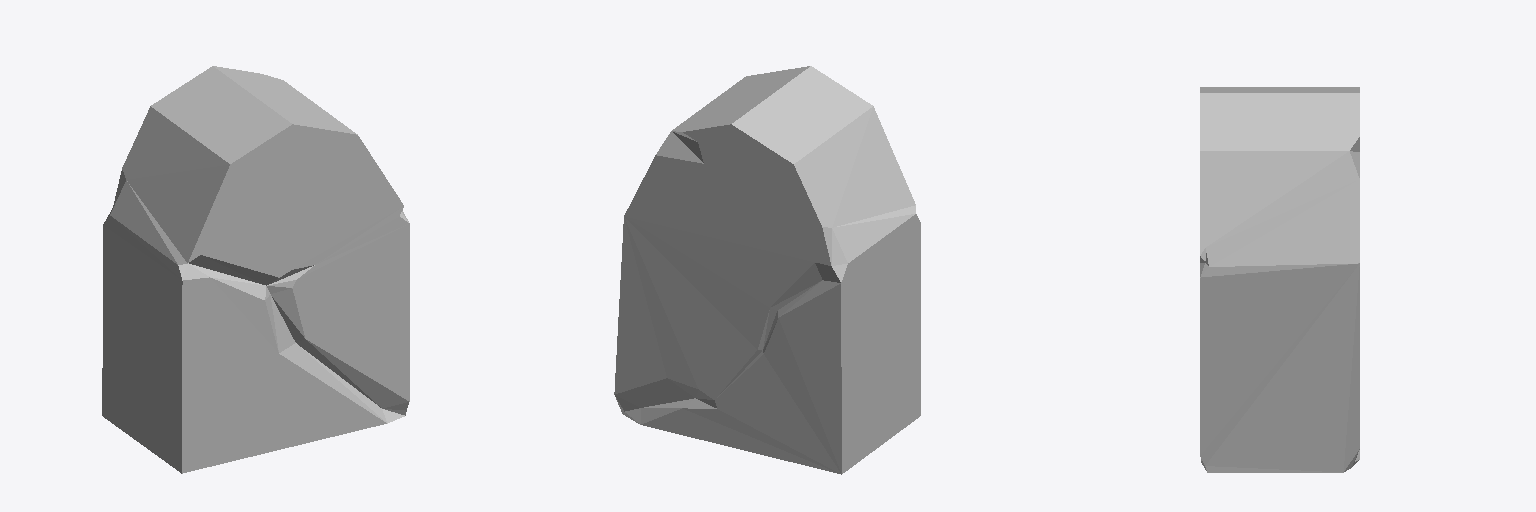
Rendered from testDoor.obj.
3 renders of one model, left to right at view 1: azimuth 30°, elevation 25°; view 2: azimuth 150°, elevation 25°; view 3: azimuth 270°, elevation 25°, orthographic.
Visible parts, largest first — view 1: door1:polySurface2 pillar:group1; view 2: door1:polySurface2 pillar:group1; view 3: door1:polySurface2 pillar:group1.
Part boxes in pixels (x1,y1,x2,y2): door1:polySurface2 pillar:group1: (102,66,409,473); door1:polySurface2 pillar:group1: (614,66,920,474); door1:polySurface2 pillar:group1: (1200,87,1359,472).
Bounding box in the file's own units: 7.79 × 10.58 × 4.73.